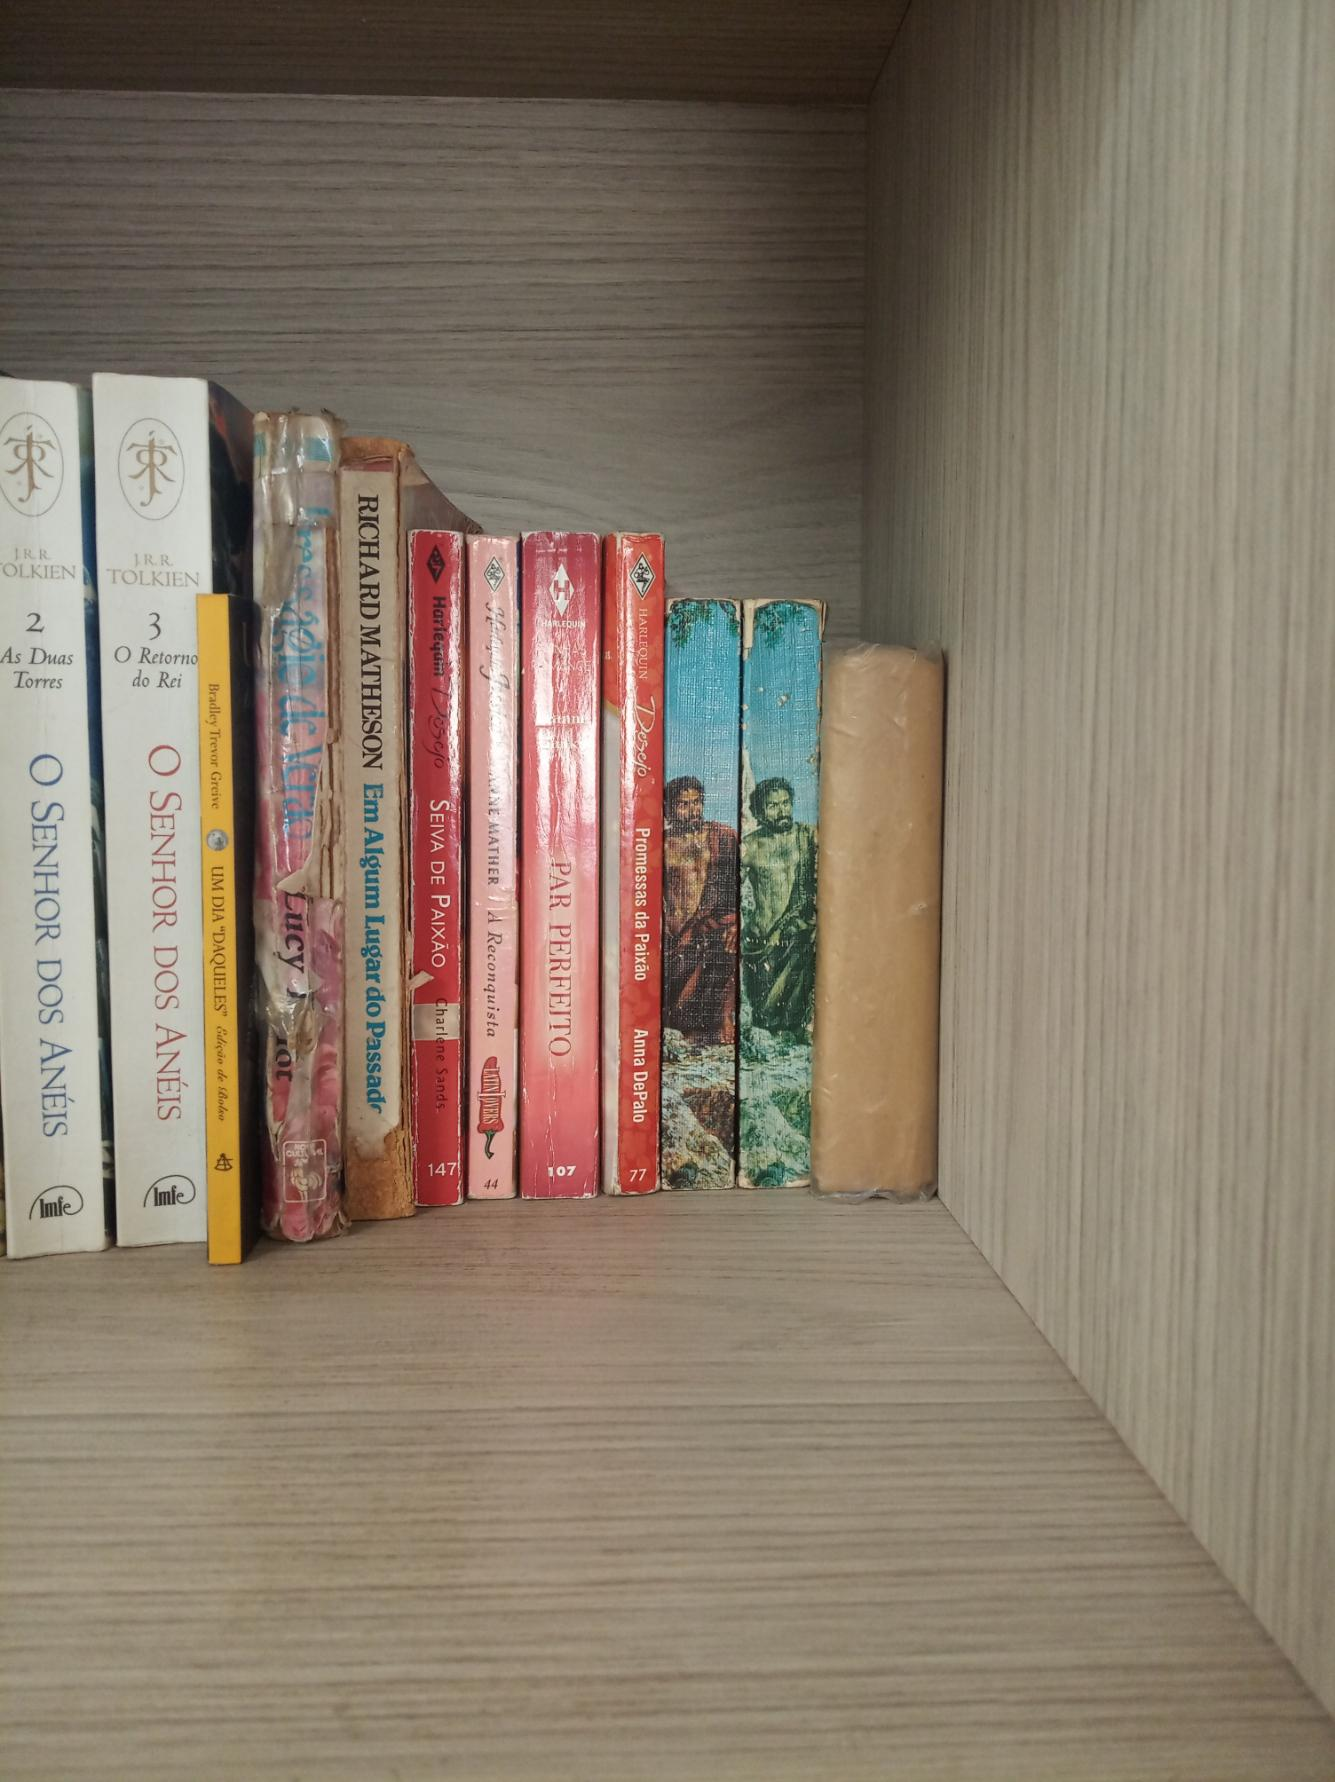book: (1, 386, 81, 1245), (259, 411, 327, 1232), (115, 386, 179, 1232), (527, 547, 602, 1190), (836, 672, 917, 1200), (339, 456, 393, 1235), (754, 603, 811, 1183), (667, 606, 722, 1186), (411, 531, 452, 1209), (473, 530, 513, 1207), (614, 534, 655, 1188), (208, 604, 234, 1255)
